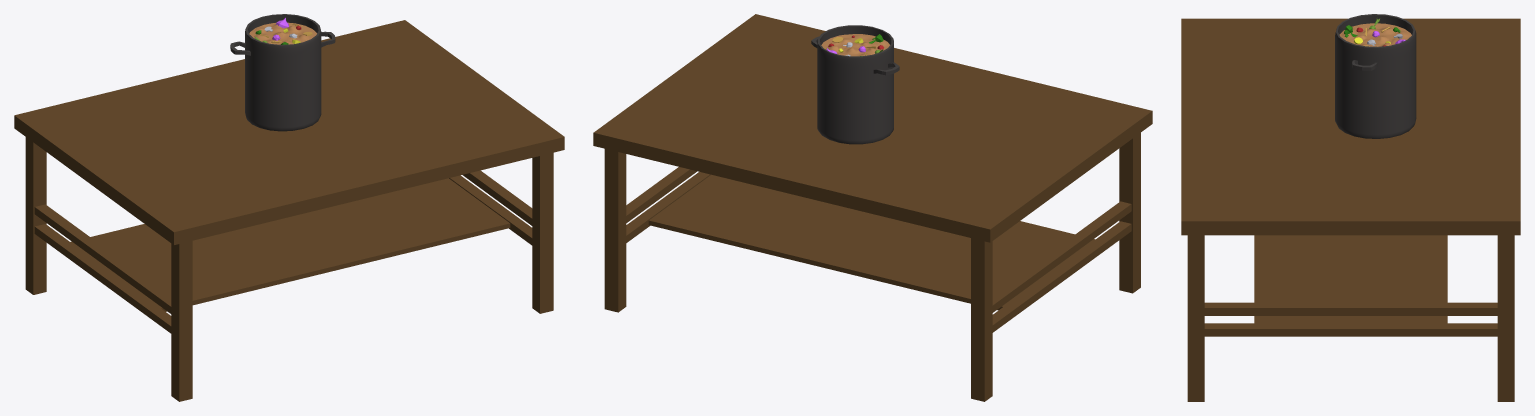
Rendered from kitchen_sm.fbx.
3 views of the same model, side by side, from view 1: azimuth 30°, elevation 25°; view 2: azimuth 150°, elevation 25°; view 3: azimuth 270°, elevation 25° (orthographic). The views are drawn at different scales.
Visible parts, largest first — view 1: Table1, Pot, Pot.003; view 2: Table1, Pot, Pot.003; view 3: Table1, Pot, Pot.003.
Part boxes in pixels (bbox=[...]): Table1: bbox=[14, 20, 564, 401]; Pot: bbox=[230, 14, 335, 131]; Pot.003: bbox=[249, 22, 316, 44]; Table1: bbox=[593, 14, 1152, 401]; Pot: bbox=[811, 25, 899, 144]; Pot.003: bbox=[821, 34, 889, 56]; Table1: bbox=[1181, 18, 1520, 401]; Pot: bbox=[1335, 14, 1416, 138]; Pot.003: bbox=[1339, 23, 1411, 46].
Size of the model in its own units: 25.14 by 16.01 by 17.8.
